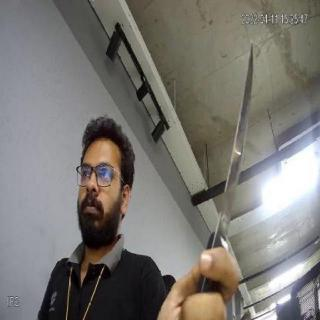knife: (213, 41, 257, 271)
